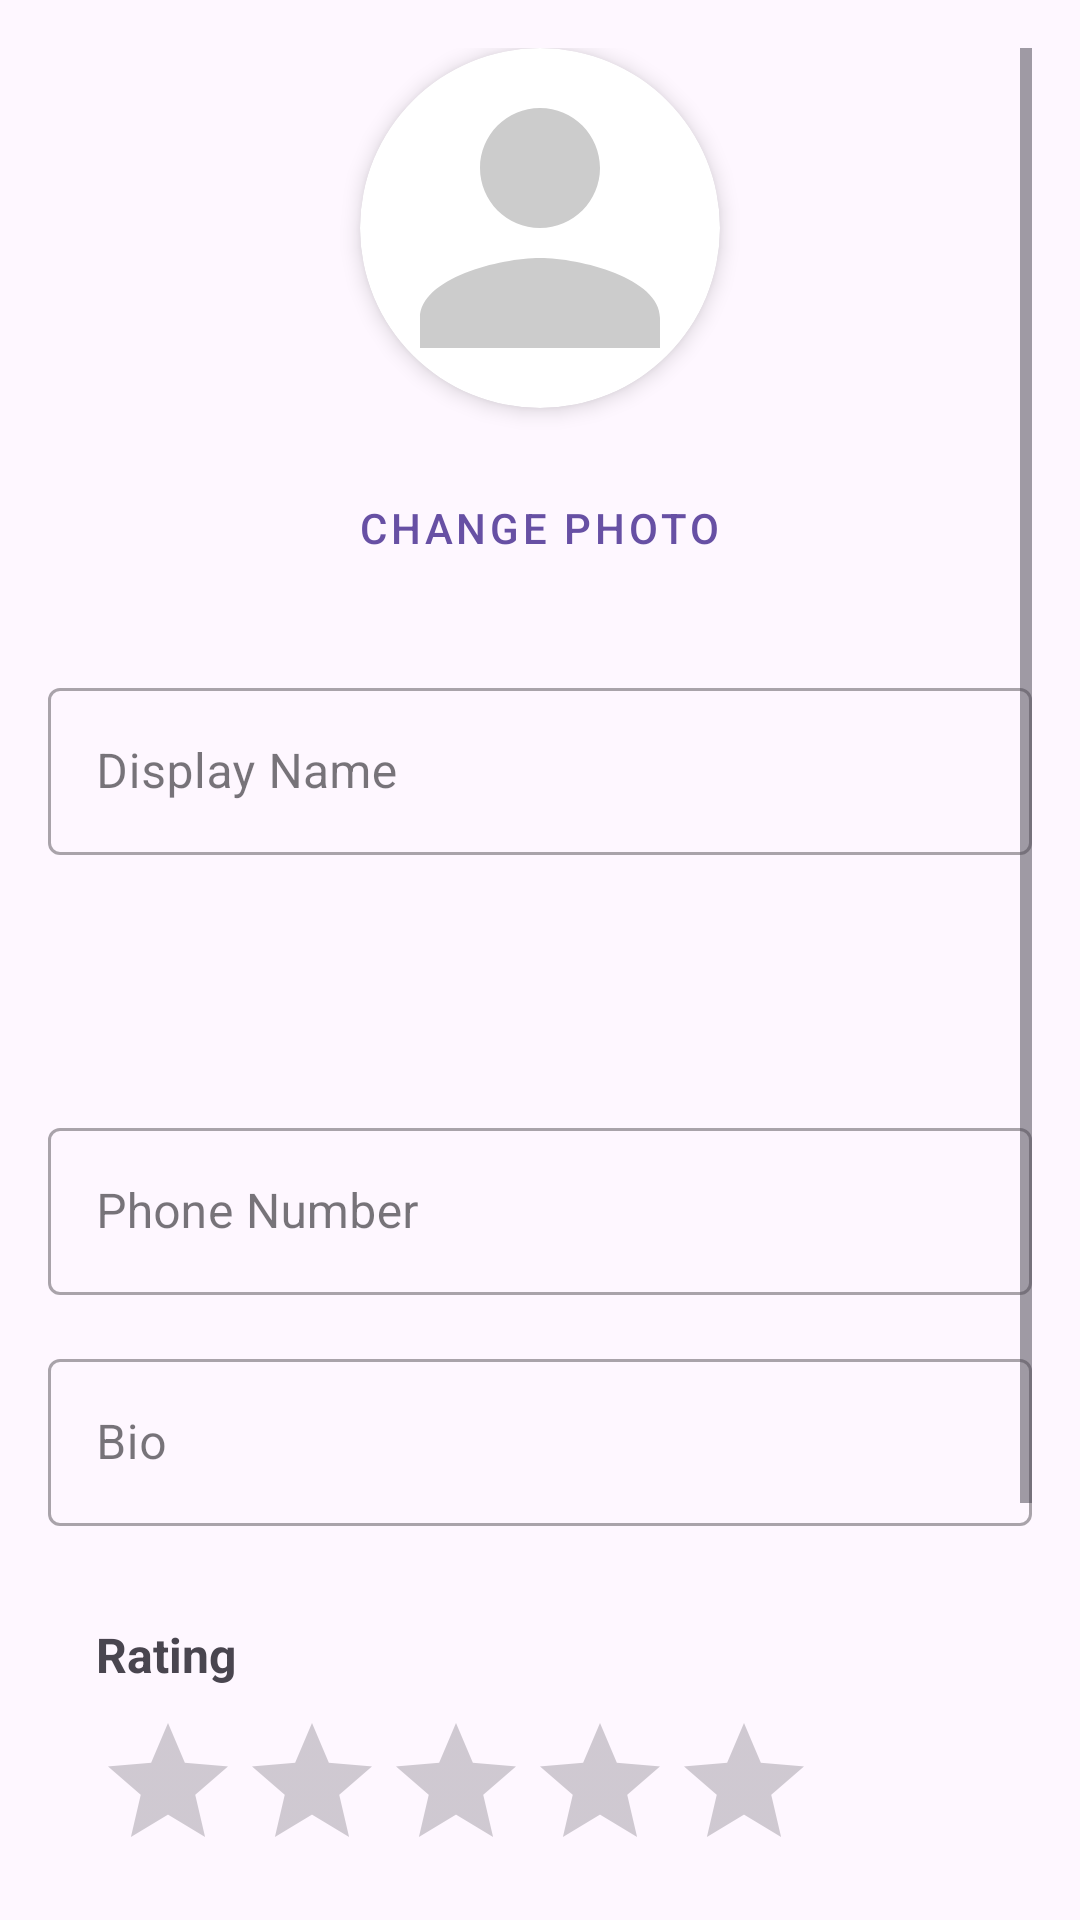

Icons on this 1080x1920 Android screen, each with the point to tap as (x,y):
profile: (540,228)
